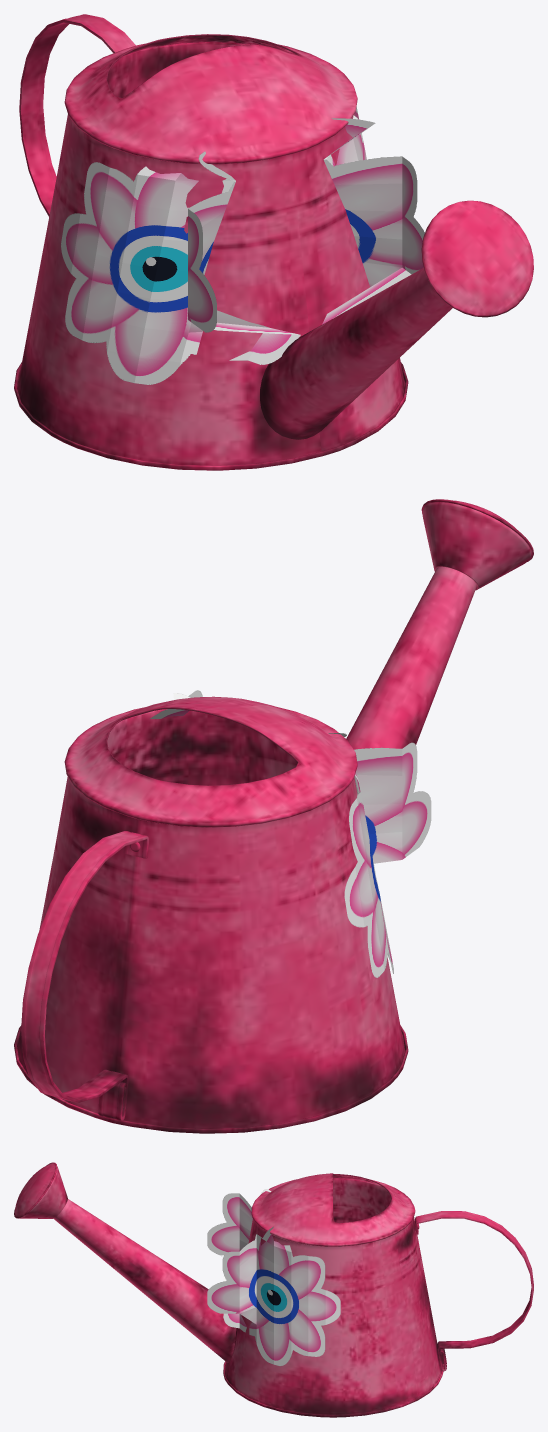
File: nyb_treebrooklyn_can.glb
3 views of the same model, one above another, from view 1: azimuth 30°, elevation 25°; view 2: azimuth 150°, elevation 25°; view 3: azimuth 270°, elevation 25° (orthographic). The views are drawn at different scales.
Parts seen in each view (by area): view 1: watering_can_metal_01, stk_eyeflower_die.png.001, stk_eyeflower_die.png; view 2: watering_can_metal_01, stk_eyeflower_die.png.001; view 3: watering_can_metal_01, stk_eyeflower_die.png, stk_eyeflower_die.png.001.
Boxes of the visible parts, x1,y1,x2,y2 form: watering_can_metal_01: (14, 14, 533, 470); stk_eyeflower_die.png.001: (61, 151, 300, 384); stk_eyeflower_die.png: (322, 107, 424, 324); watering_can_metal_01: (14, 499, 533, 1133); stk_eyeflower_die.png.001: (328, 733, 431, 977); watering_can_metal_01: (14, 1162, 533, 1417); stk_eyeflower_die.png: (207, 1226, 340, 1366); stk_eyeflower_die.png.001: (207, 1189, 271, 1281).
Size of the model in its own units: 0.191 by 0.1968 by 0.4523.
Materials: 3 (3 with a texture image).
